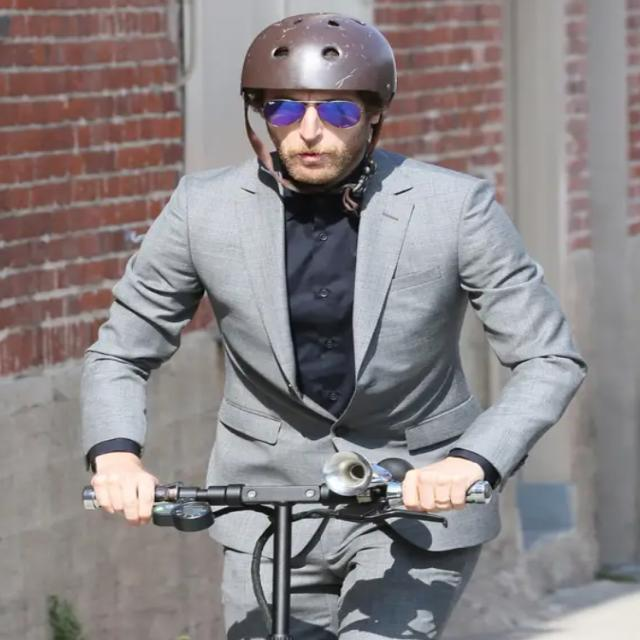helmet: (43, 4, 598, 636)
